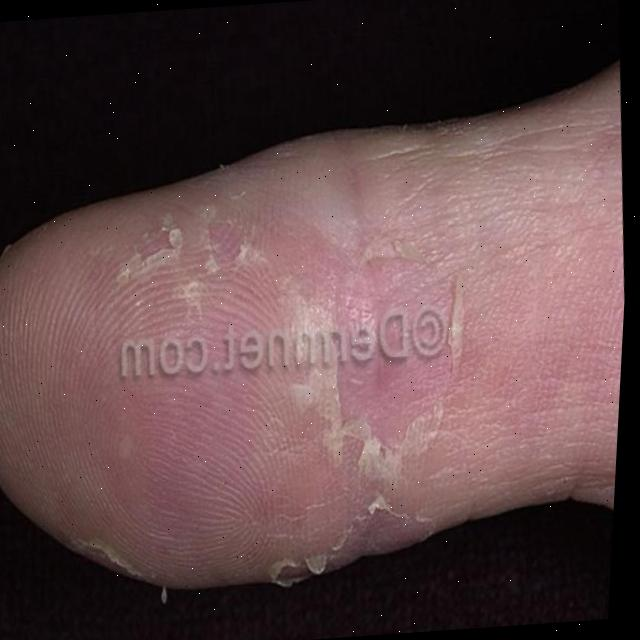Eczema: (56, 231, 484, 599)
